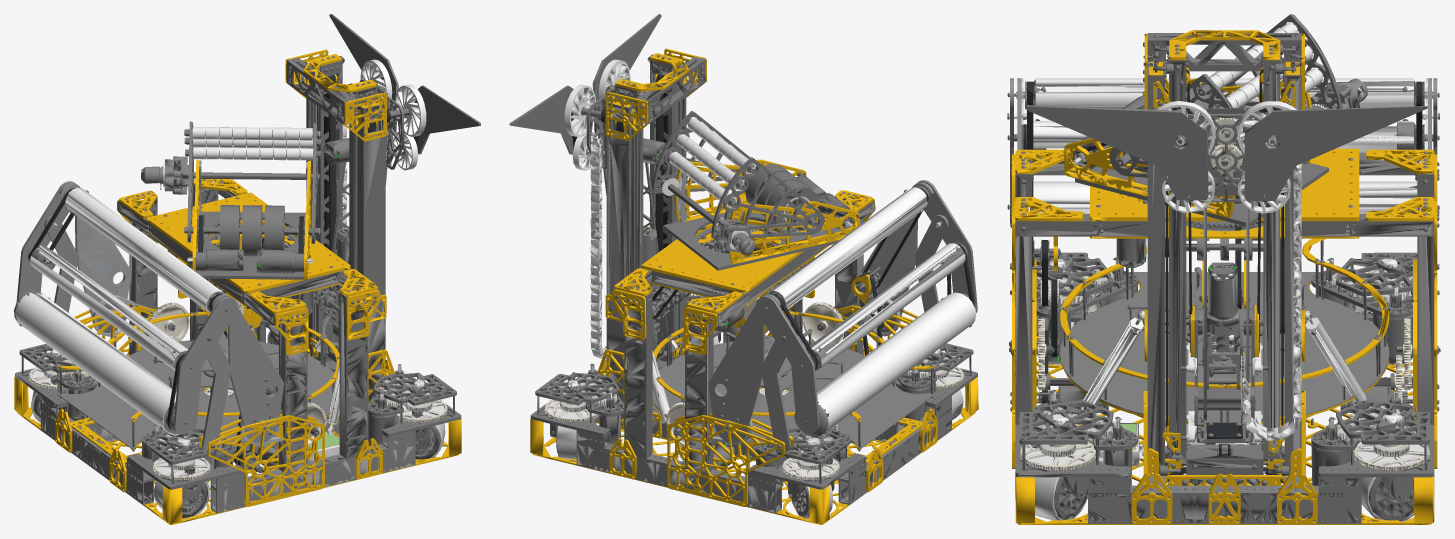
Rendered from hero-multiclass-5800.glb.
3 views of the same model, side by side, from view 1: azimuth 30°, elevation 25°; view 2: azimuth 150°, elevation 25°; view 3: azimuth 270°, elevation 25° (orthographic). The views are drawn at different scales.
Visible parts, largest first — view 1: frame, intake-outer, intake-inner, turret, elevator-stage, wrist, intake-middle, wrist-roller, carriage, flywheel-1, flywheel-0, flywheel-2 (+1 smaller); view 2: frame, intake-outer, turret, intake-inner, elevator-stage, wrist, intake-middle, wrist-roller, carriage, flywheel-0, spindexer-star; view 3: frame, wrist, elevator-stage, turret, carriage, intake-outer, intake-inner, wrist-roller, spindexer-star.
Part boxes in pixels (x1,y1,x2,y2): frame: (14, 56, 461, 524); intake-outer: (14, 181, 237, 435); intake-inner: (59, 182, 284, 443); turret: (184, 121, 321, 279); elevator-stage: (285, 49, 386, 372); wrist: (324, 14, 480, 340); intake-middle: (44, 215, 231, 452); wrist-roller: (360, 59, 426, 170); carriage: (312, 228, 349, 362); flywheel-1: (242, 205, 262, 256); flywheel-0: (219, 205, 240, 249); flywheel-2: (264, 205, 284, 249); frame: (530, 54, 978, 524); intake-outer: (755, 180, 977, 437); turret: (652, 111, 859, 270); intake-inner: (708, 182, 933, 443); elevator-stage: (605, 48, 706, 371); wrist: (509, 14, 667, 341); intake-middle: (761, 214, 948, 452); wrist-roller: (564, 59, 630, 170); carriage: (643, 227, 679, 361); flywheel-0: (766, 180, 819, 232); spindexer-star: (713, 330, 844, 395); frame: (1009, 35, 1440, 524); wrist: (1026, 105, 1427, 420); elevator-stage: (1144, 30, 1304, 474); turret: (1064, 14, 1342, 227); carriage: (1180, 262, 1268, 443); intake-outer: (1007, 78, 1439, 231); intake-inner: (1016, 78, 1433, 306); wrist-roller: (1157, 101, 1296, 213); spindexer-star: (1127, 268, 1305, 362).
Bounding box in the file's own units: 0.7304 × 0.7566 × 0.6432.
